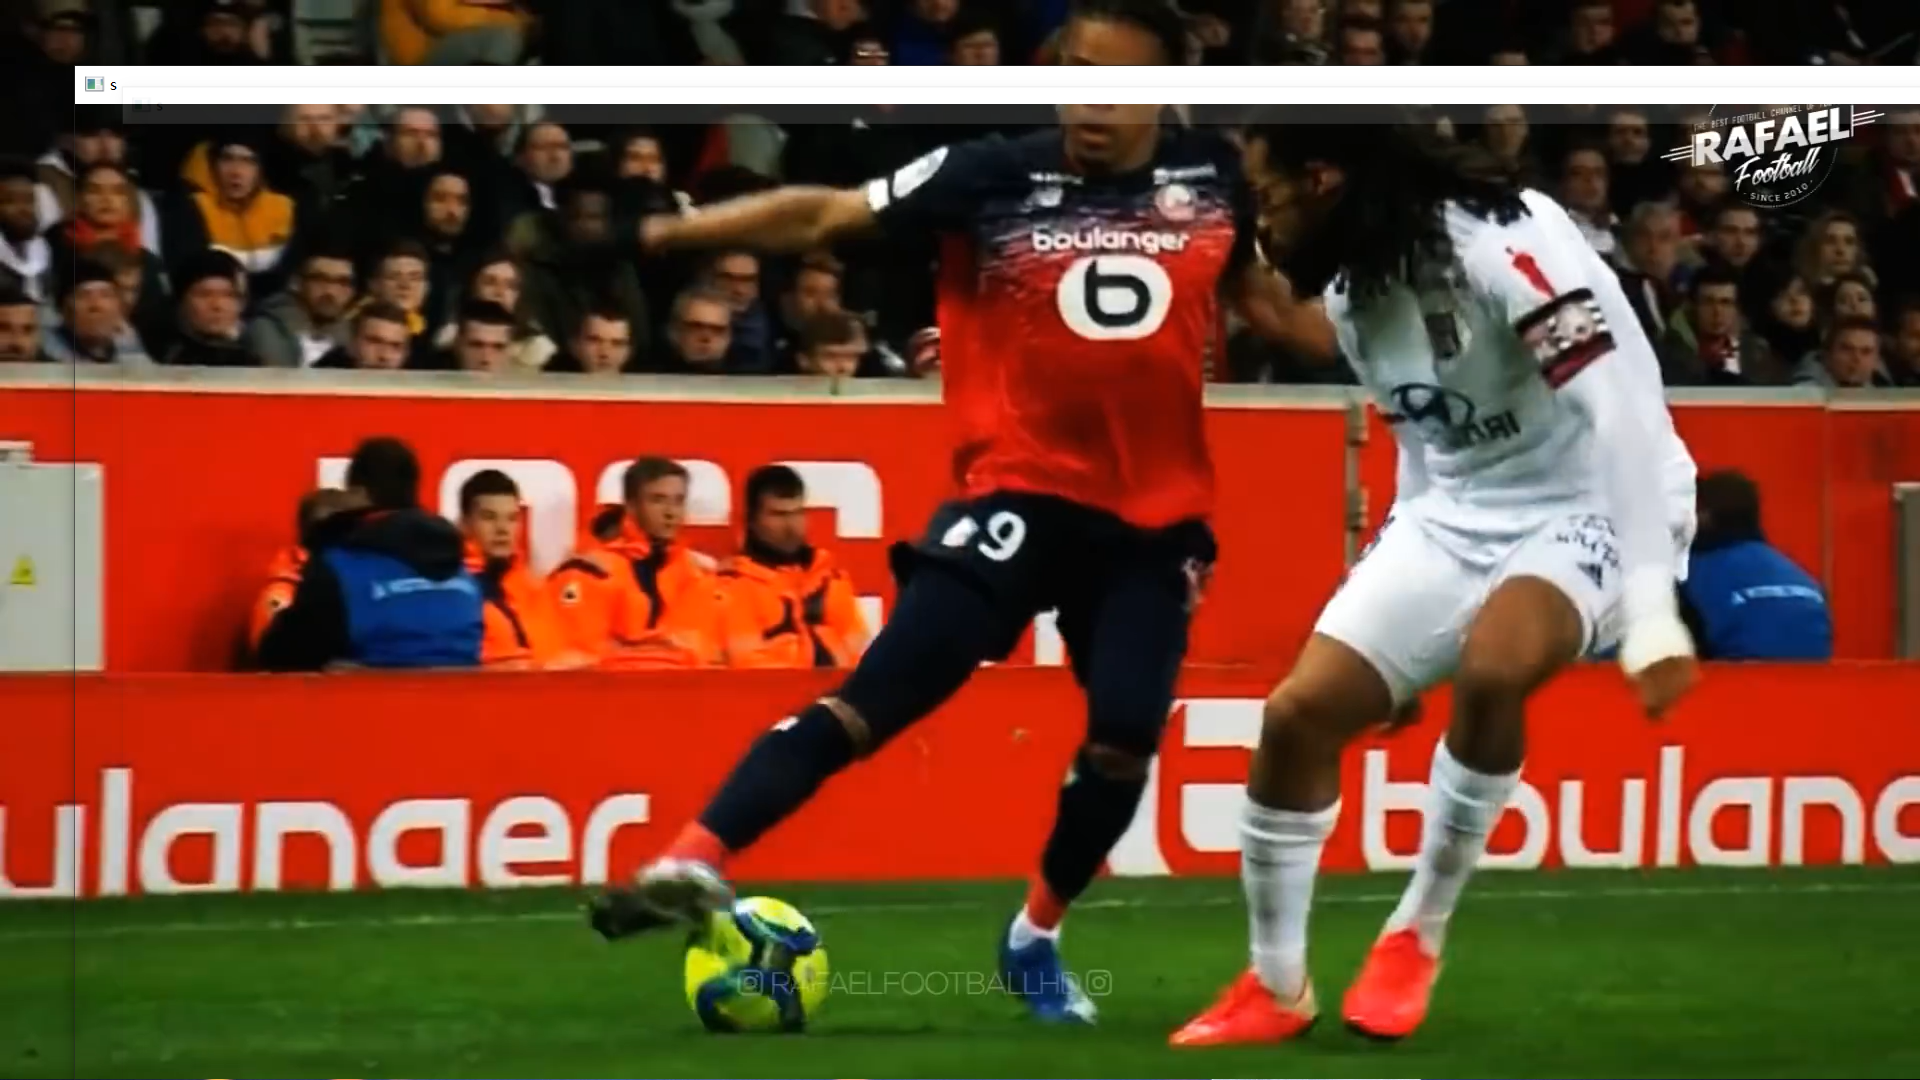ft: (683, 889, 840, 1048)
